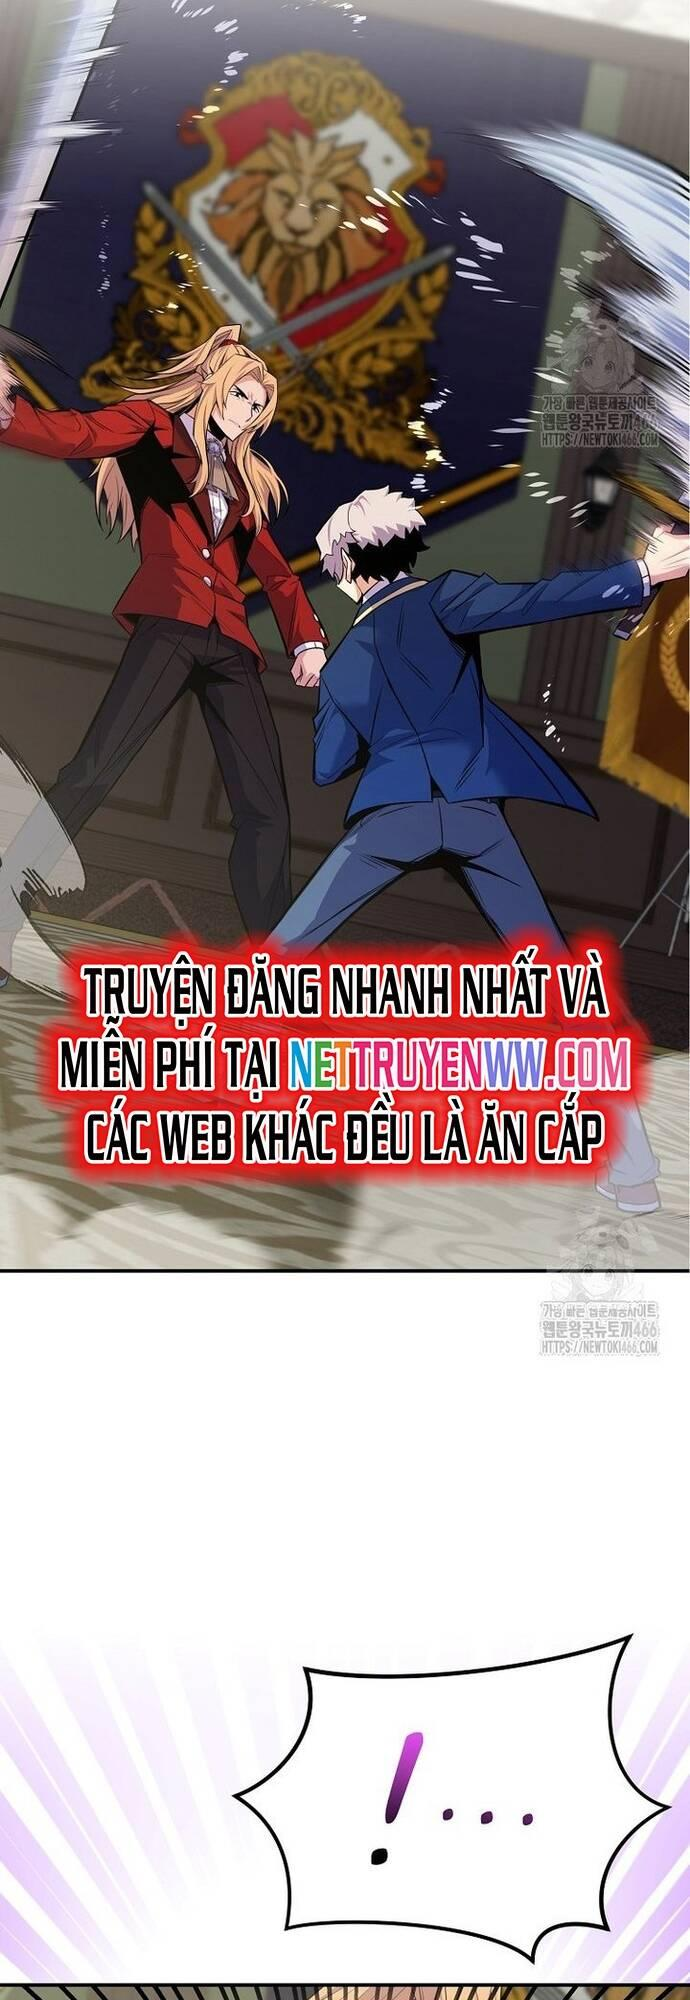quangcao: (52, 945, 650, 1175)
